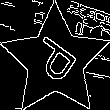P_SE: (26, 31, 85, 90)
